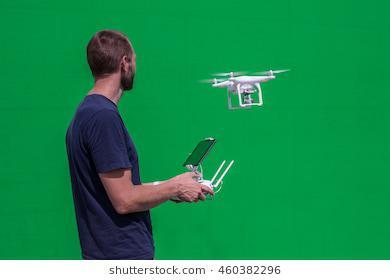drone: (182, 55, 309, 132)
